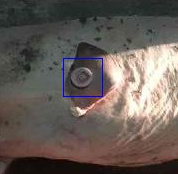text: (63, 58, 102, 96)
